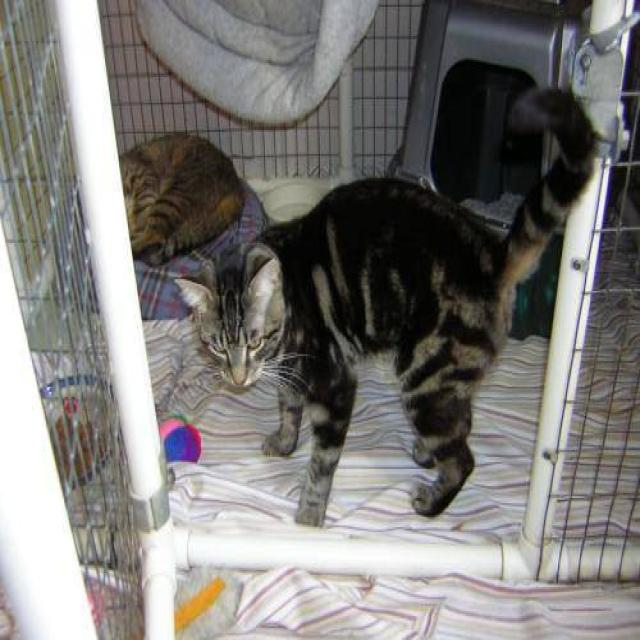cat: (173, 82, 605, 527), (118, 130, 244, 265)
